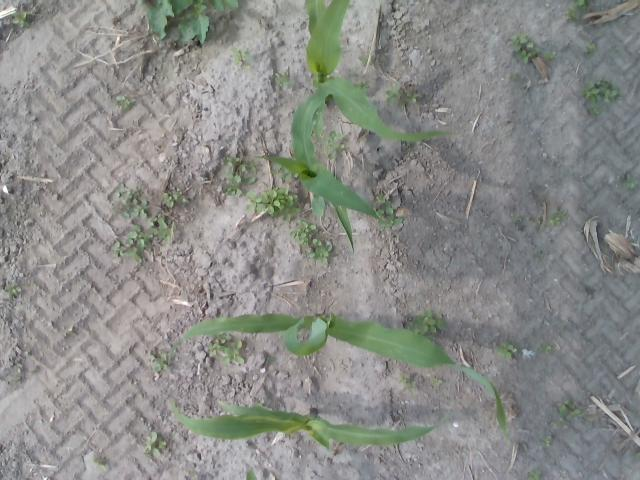Maize: (289, 0, 457, 254), (167, 315, 508, 435), (168, 400, 444, 450), (256, 150, 382, 222), (244, 468, 257, 480)
Weeds: (142, 0, 240, 45), (246, 188, 300, 221), (224, 158, 256, 196), (127, 224, 154, 263), (512, 32, 542, 62), (121, 188, 148, 220), (289, 220, 315, 247), (416, 312, 446, 333), (310, 239, 332, 266), (144, 431, 166, 458), (221, 341, 244, 366), (325, 132, 345, 158), (152, 216, 170, 240), (163, 192, 188, 209), (556, 400, 582, 416), (581, 82, 600, 103), (12, 8, 30, 30), (378, 194, 394, 214), (598, 76, 613, 96), (550, 209, 568, 225), (236, 48, 250, 67), (114, 95, 136, 107), (499, 342, 515, 358), (112, 241, 126, 258), (150, 356, 167, 370), (386, 88, 403, 102), (582, 40, 596, 54), (387, 216, 403, 228), (402, 380, 418, 392), (207, 342, 219, 358), (626, 174, 638, 190), (604, 90, 618, 103), (5, 286, 21, 296), (565, 8, 577, 20), (275, 73, 288, 84), (116, 184, 127, 196), (220, 156, 233, 166), (528, 471, 542, 480), (540, 342, 550, 354), (407, 92, 419, 102), (543, 51, 555, 61), (576, 0, 588, 10), (217, 336, 231, 344), (92, 462, 106, 470), (358, 55, 368, 66), (399, 374, 409, 384), (432, 376, 442, 385), (532, 216, 540, 226), (544, 436, 552, 446), (534, 253, 544, 260), (550, 420, 558, 428), (590, 107, 598, 115), (512, 214, 520, 222), (509, 73, 518, 80)
